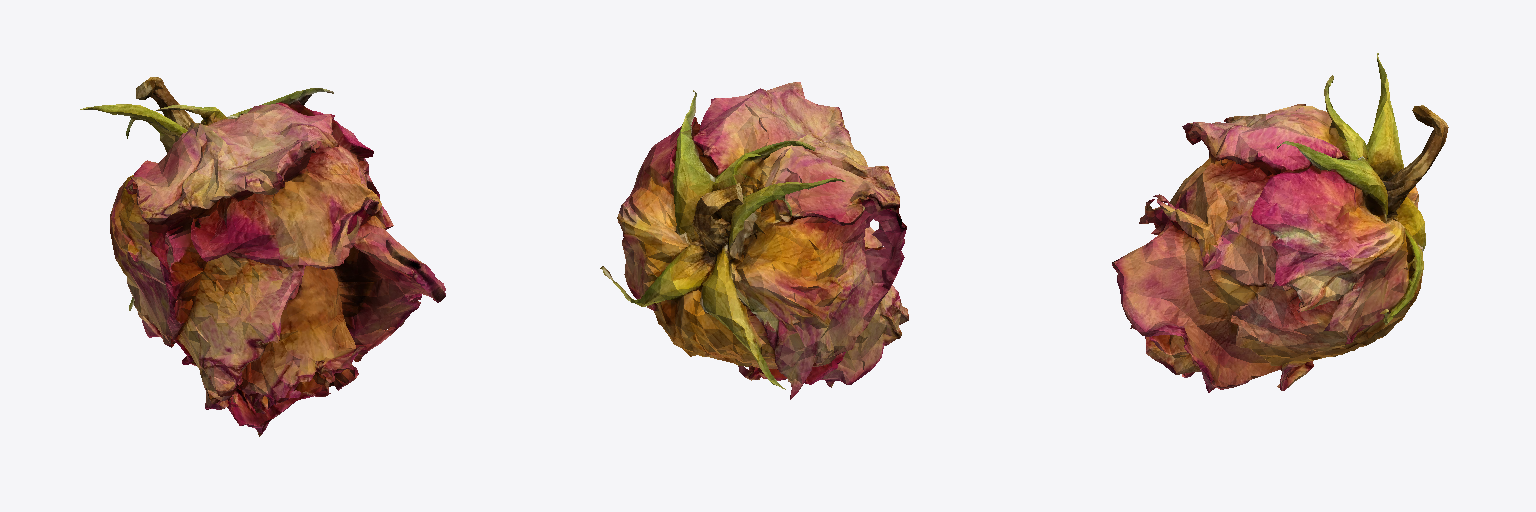
3 views of the same model, side by side, from view 1: azimuth 30°, elevation 25°; view 2: azimuth 150°, elevation 25°; view 3: azimuth 270°, elevation 25° (orthographic).
Size of the model in its own units: 18.5 by 20.71 by 21.27.
Materials: 1 (1 with a texture image).